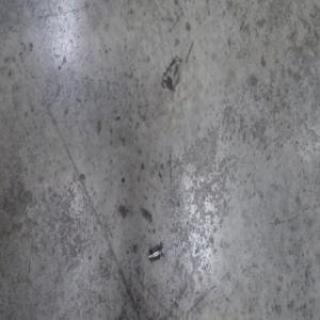Bolttrack_idkeyframe: (147, 242, 164, 264)
